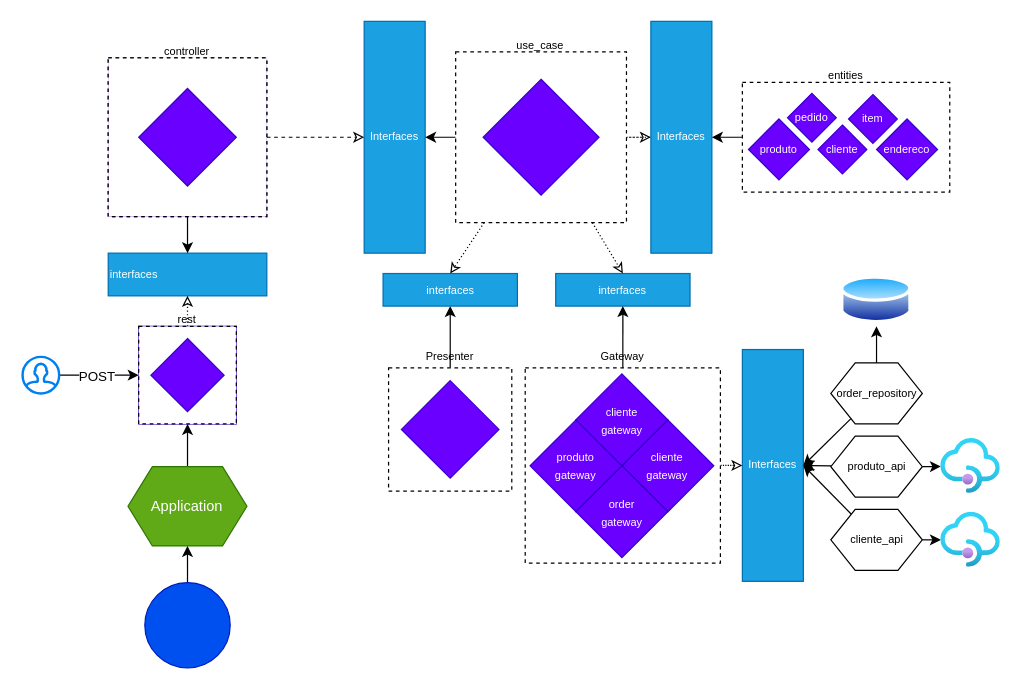
Image size: 1021x689. Some labels were removed from this diagram. Here are the shapes that lost their labels. From the top down, the centre of each, then its label:
point (186, 136): order_controller
point (540, 136): order_use_case
point (876, 299): banco de dados
point (187, 374): order_rest
point (449, 428): order_presenter
point (187, 624): main
